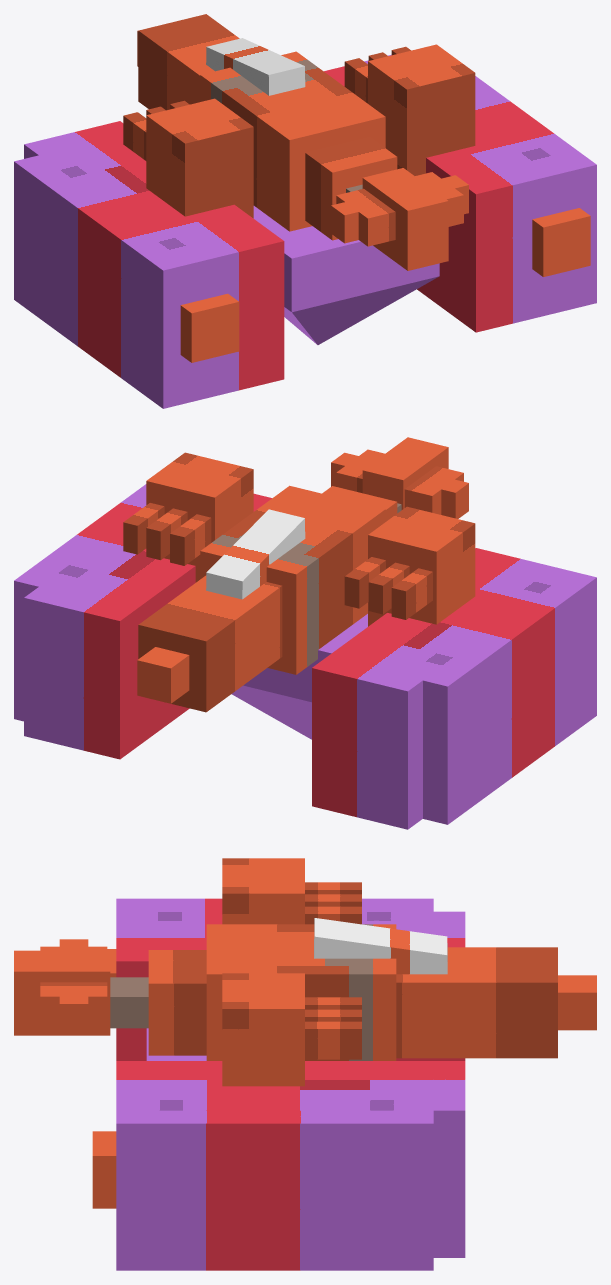
The model's file is SupplyShip.fbx.
3 renders of one model, top to bottom at view 1: azimuth 30°, elevation 25°; view 2: azimuth 150°, elevation 25°; view 3: azimuth 270°, elevation 25°, orthographic. The views are drawn at different scales.
Parts seen in each view (by area): view 1: Supply Ship; view 2: Supply Ship; view 3: Supply Ship.
Part boxes in pixels (x1,y1,x2,y2): Supply Ship: [14, 14, 596, 408]; Supply Ship: [14, 437, 596, 829]; Supply Ship: [14, 858, 596, 1270].
Size of the model in its own units: 903 by 502 by 988.
